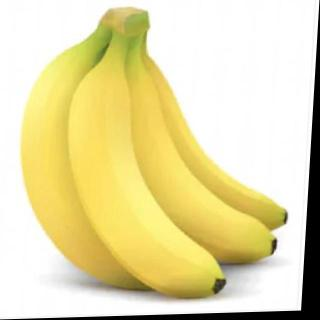banana: (62, 63, 242, 304), (12, 46, 180, 298), (96, 64, 292, 274), (117, 56, 300, 242)
